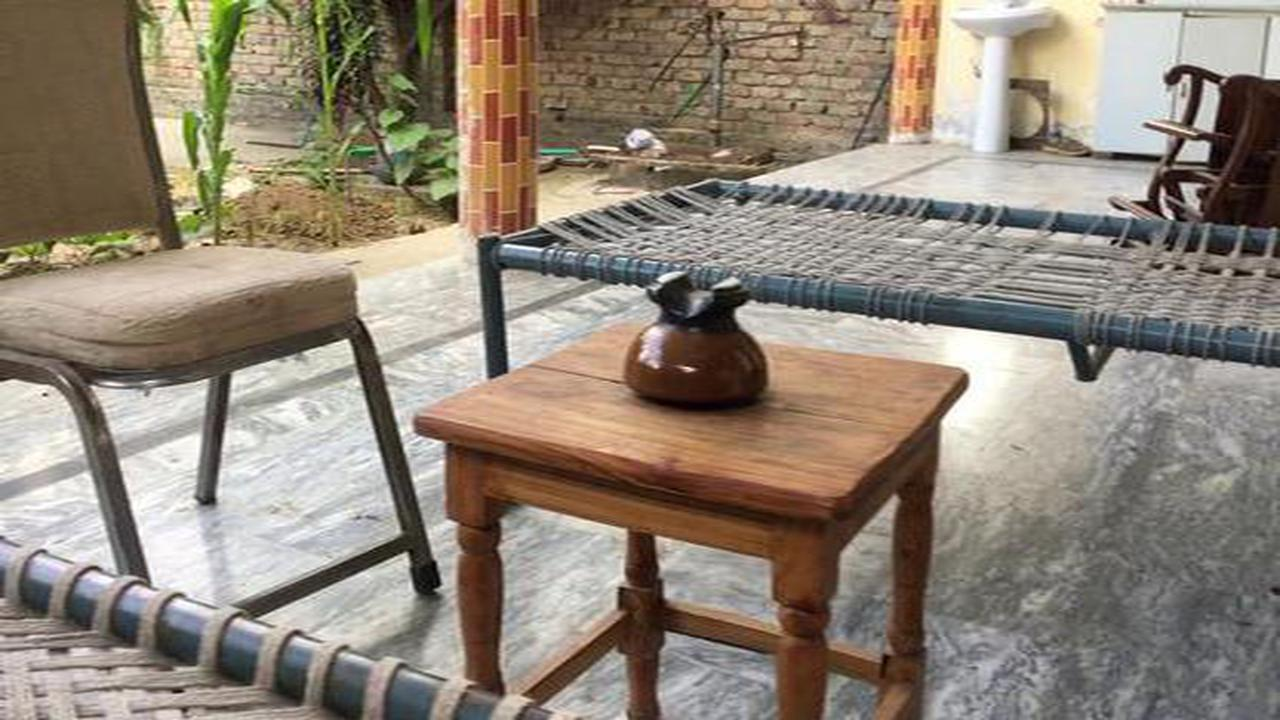insulator_pin: (601, 255, 785, 426)
